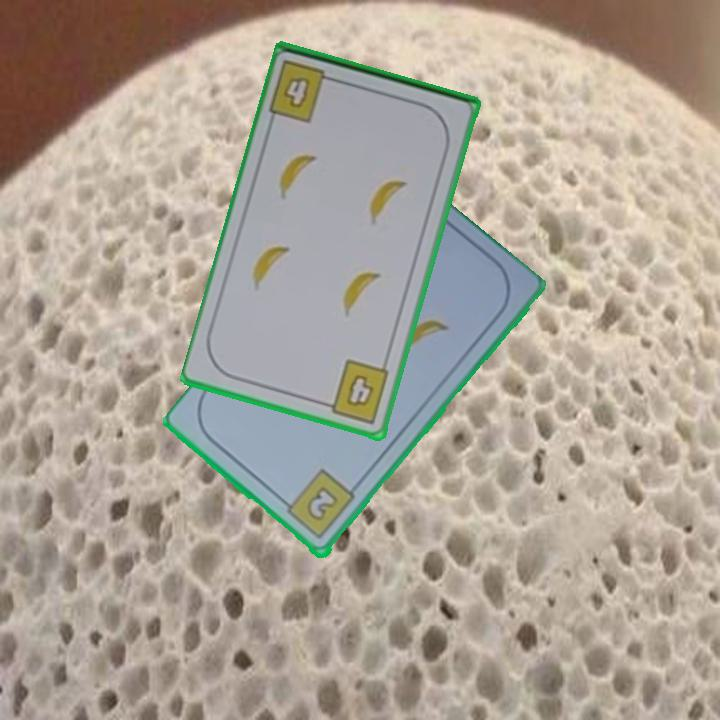2b: (278, 466, 358, 543)
4b: (319, 356, 392, 427), (266, 56, 342, 124)
